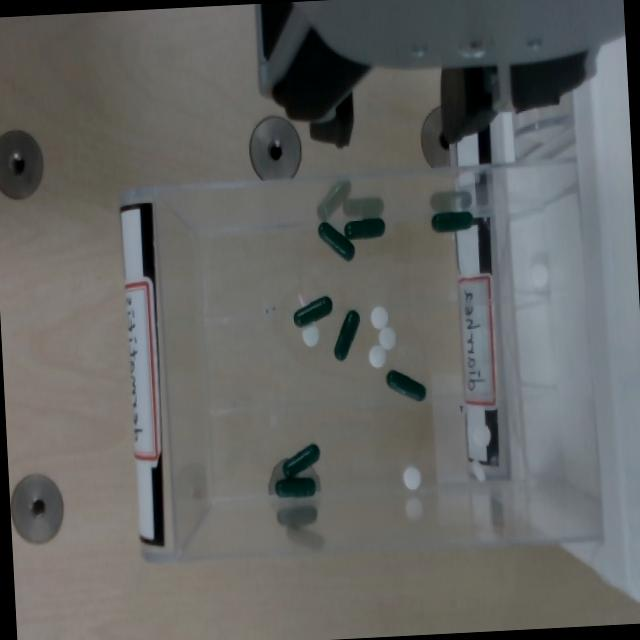ganakan_tab: (367, 305, 388, 332), (376, 326, 396, 353), (299, 324, 319, 350), (366, 344, 385, 371), (472, 422, 491, 448), (402, 465, 421, 490), (470, 456, 485, 482)
monodoxy_cap: (317, 220, 354, 264), (331, 308, 361, 362), (384, 368, 426, 405), (290, 294, 333, 330), (317, 222, 353, 261), (280, 443, 320, 478), (385, 370, 425, 402), (333, 310, 358, 361), (281, 444, 318, 475), (293, 297, 330, 327), (430, 209, 473, 234), (342, 217, 385, 242), (273, 475, 316, 500), (274, 476, 315, 498), (431, 211, 472, 233), (343, 217, 383, 239)
